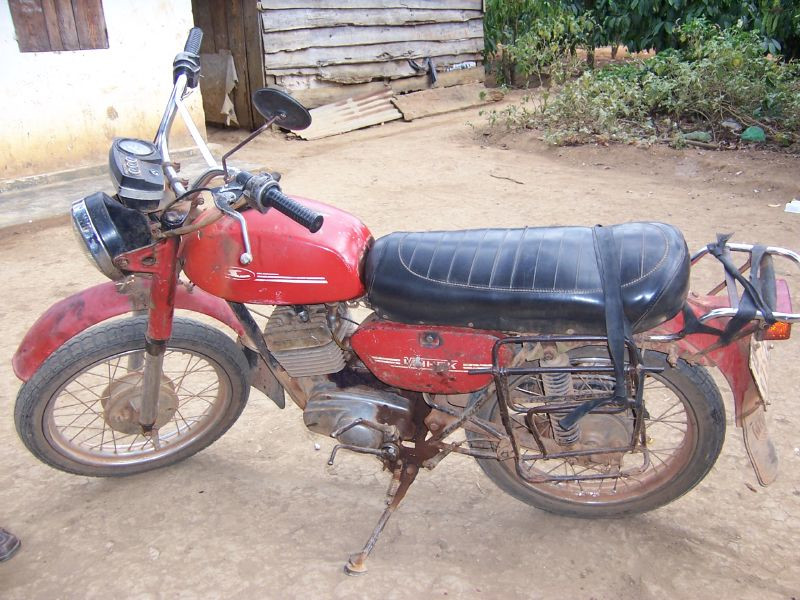bike: (10, 23, 798, 522)
